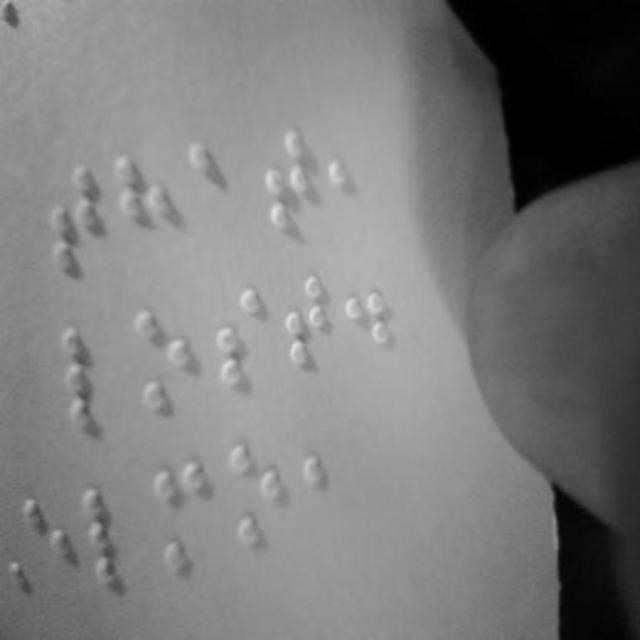braiile: (80, 482, 144, 604), (114, 152, 180, 266), (280, 272, 340, 388), (228, 440, 290, 552), (259, 130, 317, 244), (130, 306, 190, 414), (154, 462, 210, 574), (49, 168, 107, 274), (20, 494, 76, 602), (188, 139, 242, 249), (63, 328, 121, 429), (214, 286, 268, 390)
